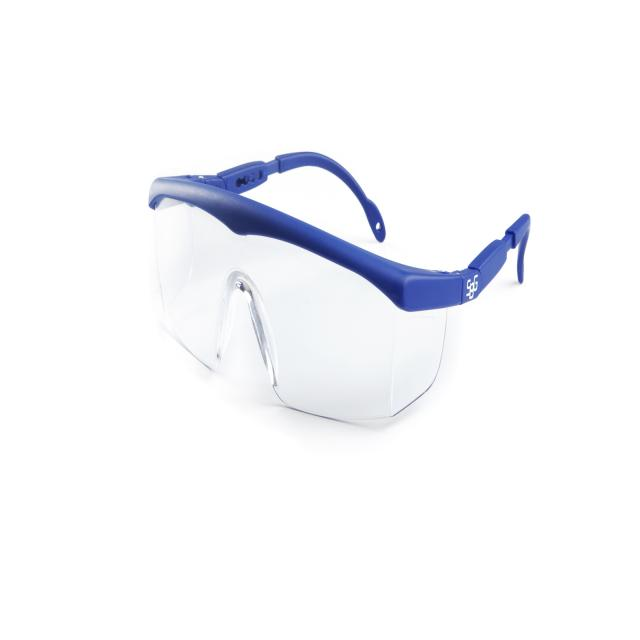Protective Glasses: (123, 92, 576, 465)
